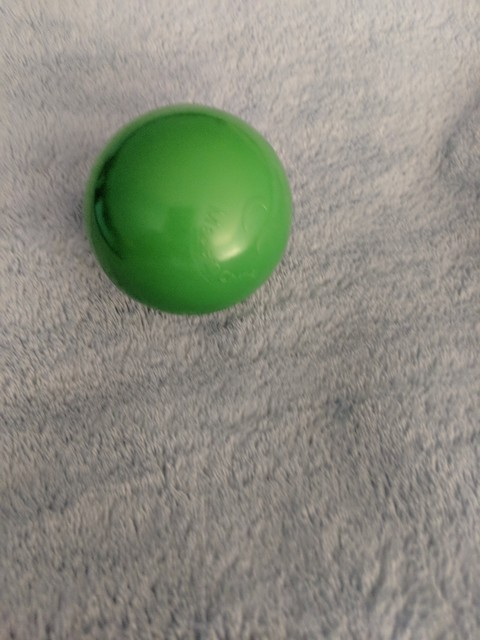Ball: (86, 102, 293, 317)
